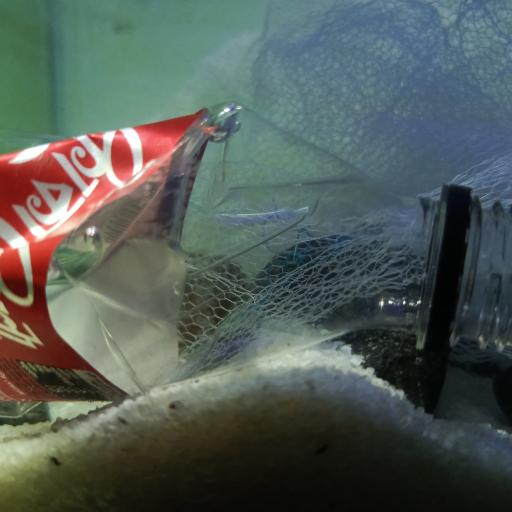net: (191, 1, 512, 364)
plastic_bottle: (0, 102, 512, 405)
